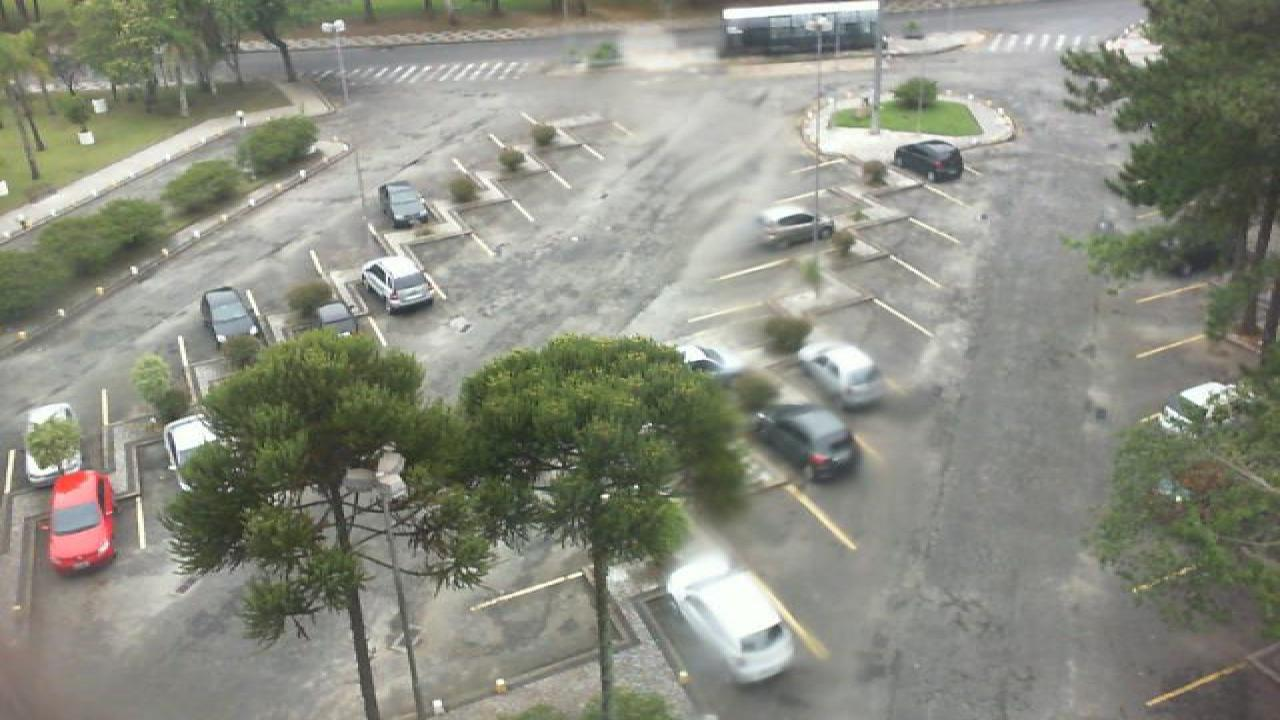Car: (662, 559, 800, 687), (750, 400, 860, 484), (46, 469, 116, 572), (796, 341, 888, 409), (1160, 382, 1264, 434), (20, 402, 84, 485), (358, 254, 438, 314), (162, 415, 222, 494), (754, 202, 836, 248), (198, 286, 260, 346), (892, 140, 966, 185), (376, 179, 432, 231), (674, 339, 738, 380), (310, 300, 362, 340)
